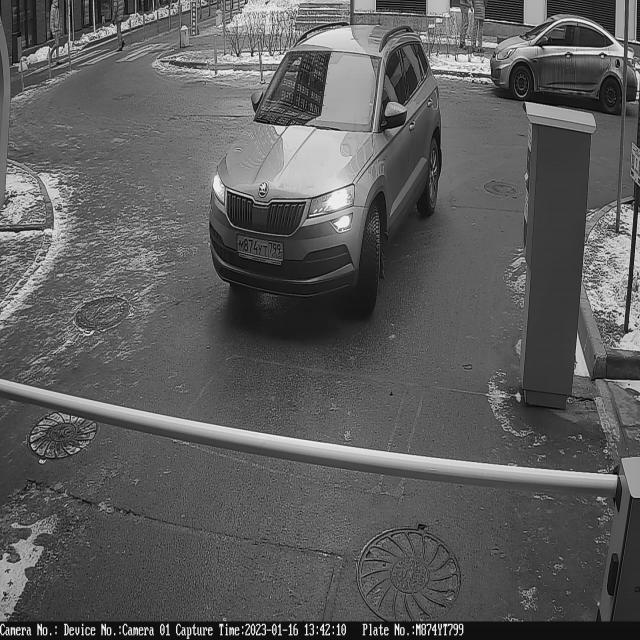car-plate-numbers: (236, 230, 285, 264)
